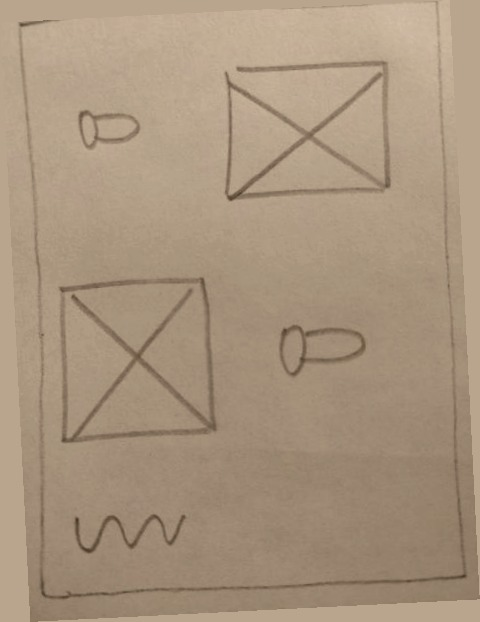image: (45, 263, 229, 451), (210, 49, 399, 213)
switch: (267, 313, 377, 385), (65, 100, 144, 152)
text: (64, 501, 190, 561)
